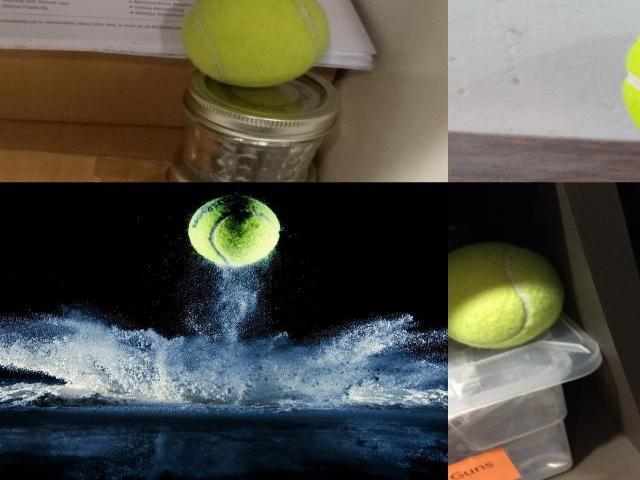tennis-ball: (181, 0, 330, 88), (448, 240, 564, 349), (187, 193, 281, 267)
